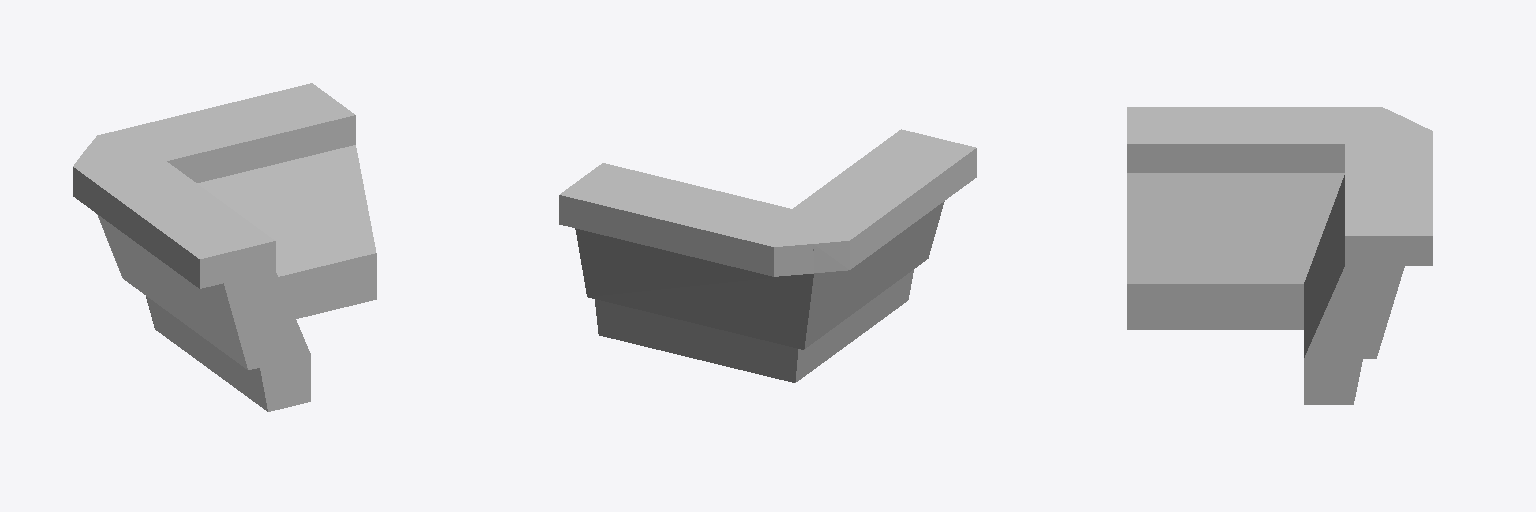
The model's file is Model_CageFloorCorner.obj.
3 renders of one model, left to right at view 1: azimuth 30°, elevation 25°; view 2: azimuth 150°, elevation 25°; view 3: azimuth 270°, elevation 25°, orthographic.
Visible parts, largest first — view 1: Model_CageFloorCorner; view 2: Model_CageFloorCorner; view 3: Model_CageFloorCorner.
Boxes of the visible parts, box(x1,y1,x2,y2) form: Model_CageFloorCorner: box(73, 83, 376, 411); Model_CageFloorCorner: box(559, 129, 976, 382); Model_CageFloorCorner: box(1127, 107, 1432, 404).
Size of the model in its own units: 2.98 by 1.82 by 2.97.